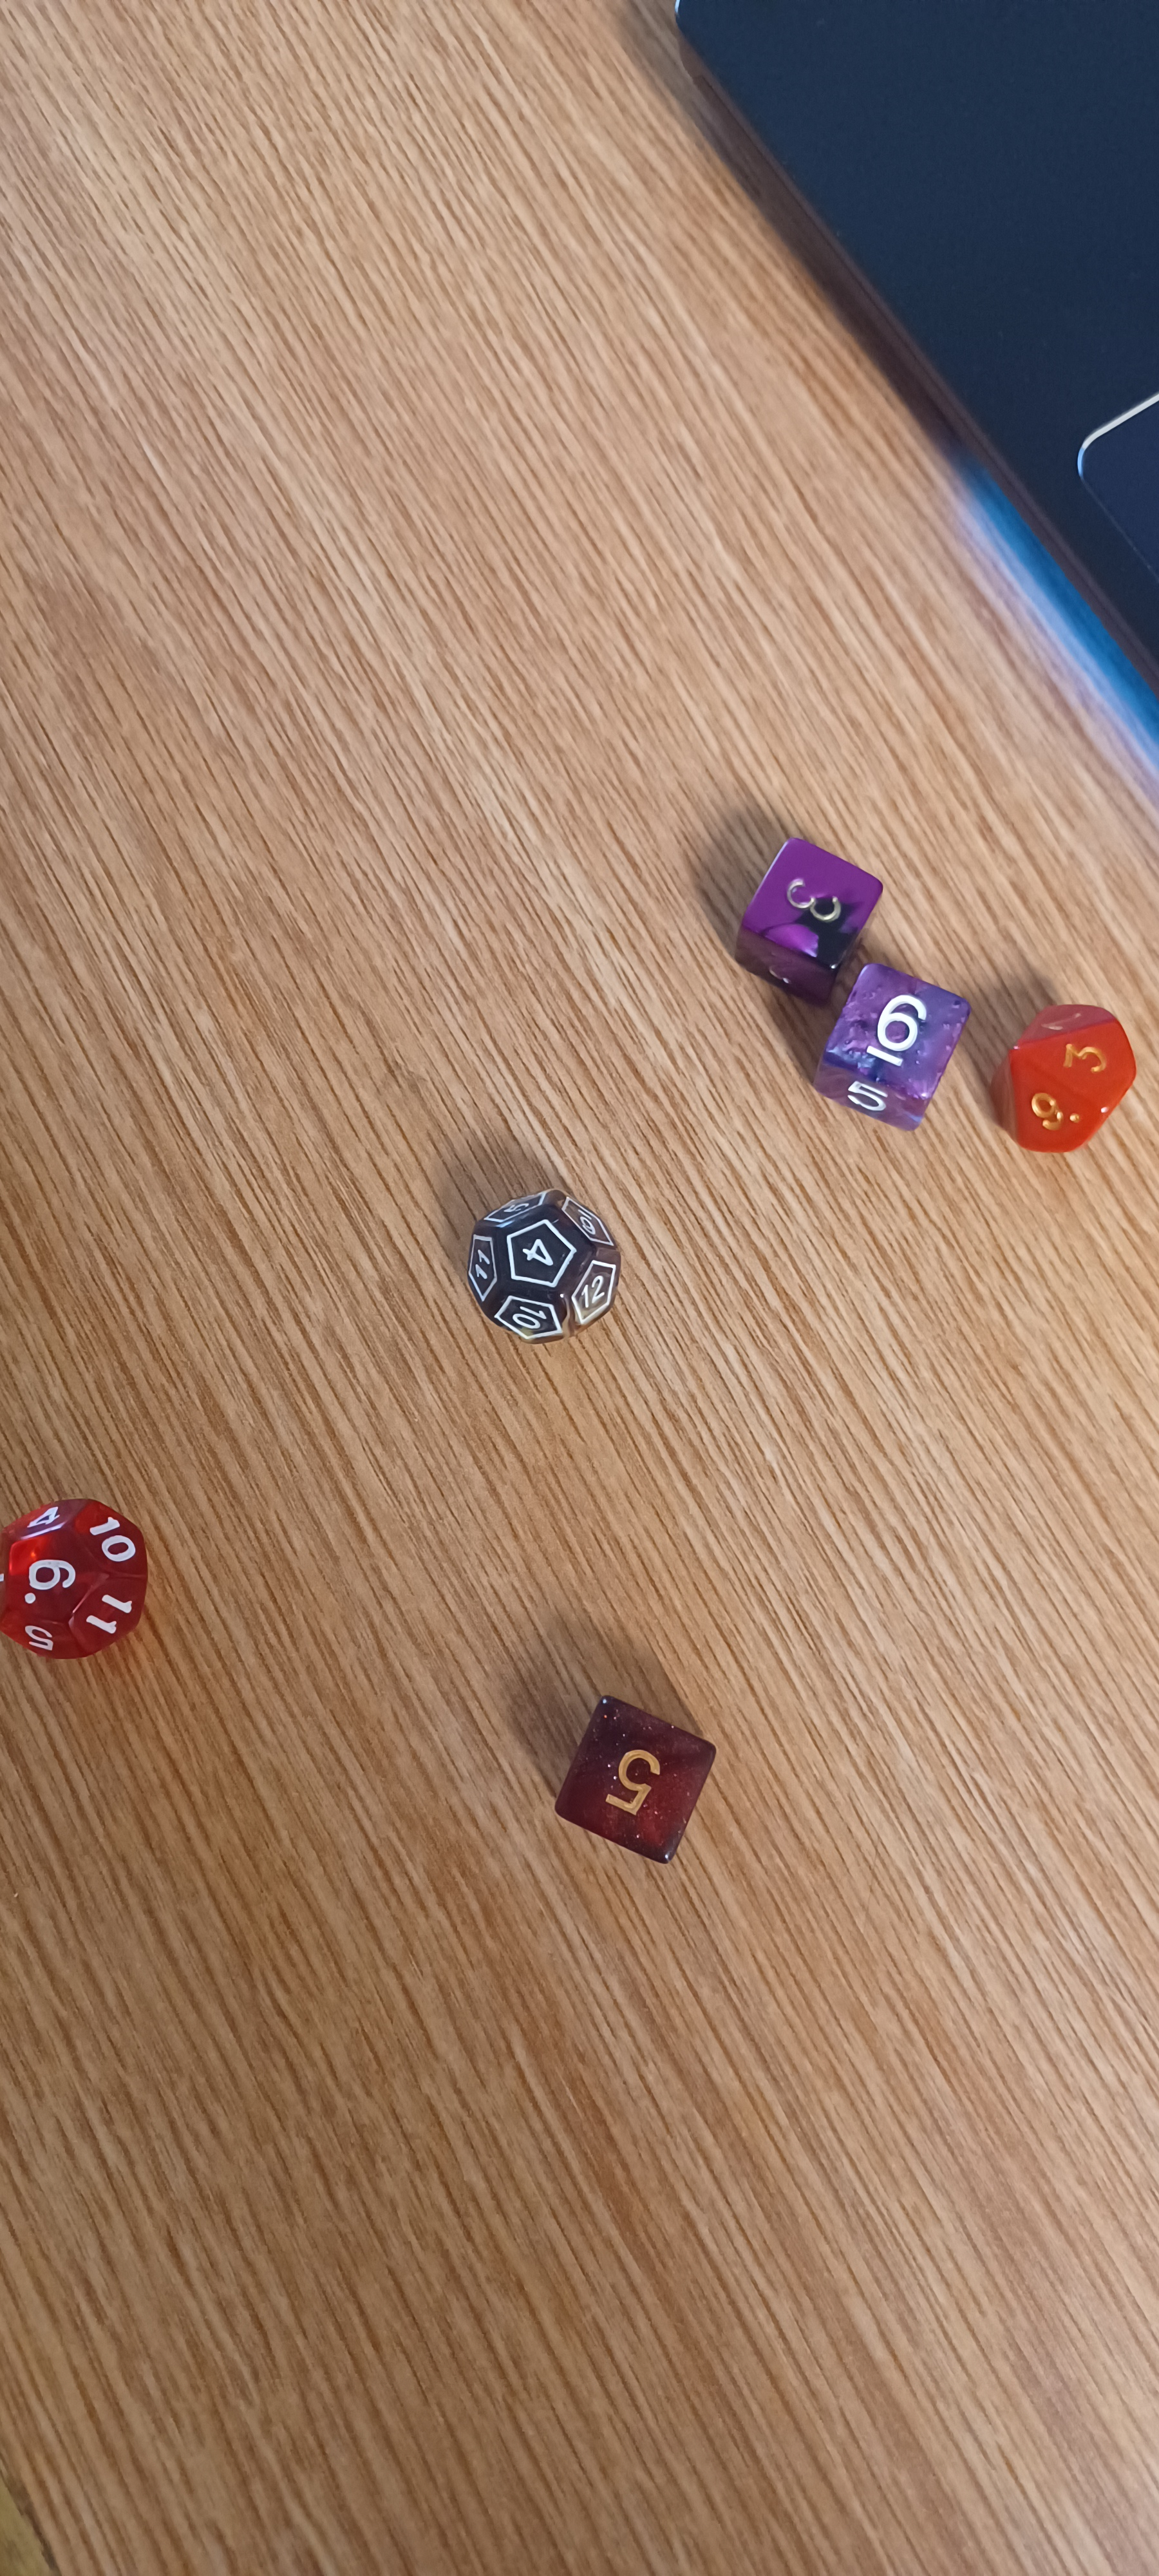five: (519, 1651, 770, 1901)
four: (430, 1170, 657, 1354)
six: (799, 943, 992, 1127), (7, 1487, 186, 1682)
three: (698, 808, 908, 1005), (972, 994, 1149, 1165)
